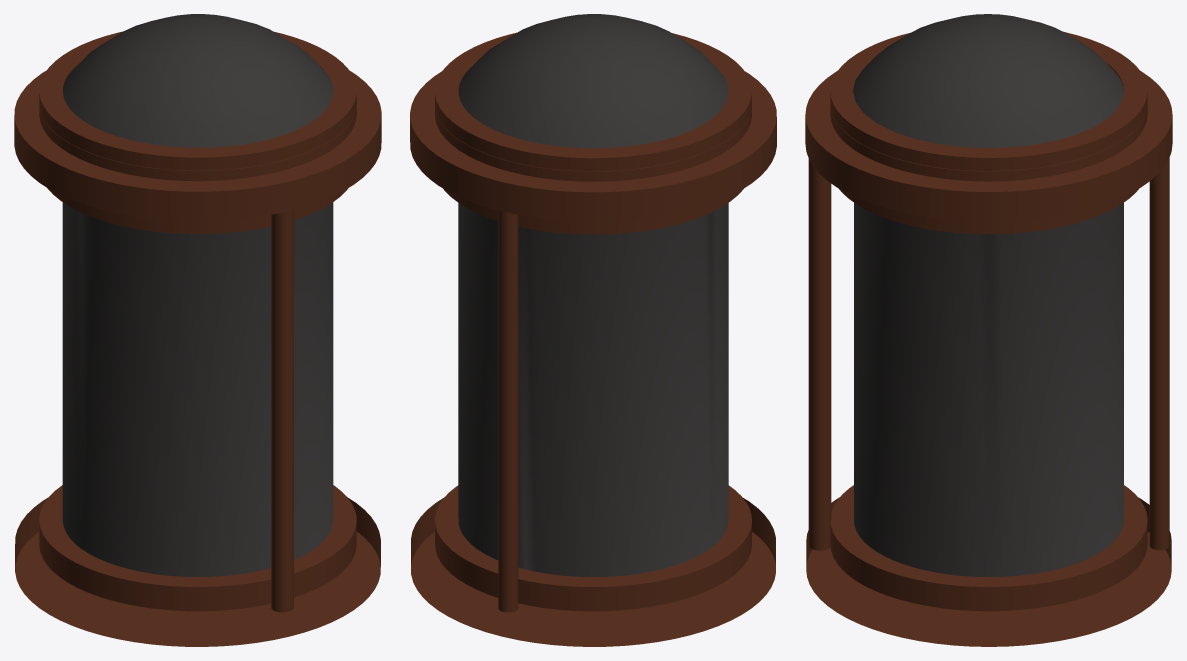
Rendered from TimeCapsuleLetter.glb.
3 renders of one model, left to right at view 1: azimuth 30°, elevation 25°; view 2: azimuth 150°, elevation 25°; view 3: azimuth 270°, elevation 25°, orthographic.
Visible parts, largest first — view 1: Cylinder.003, Sphere.001, Cylinder.006, Cylinder.001, Cylinder.002, Cylinder.005, Cylinder, Cylinder.008, Cylinder.004; view 2: Cylinder.003, Sphere.001, Cylinder.006, Cylinder.001, Cylinder.002, Cylinder.005, Cylinder.007, Cylinder.008, Cylinder.004; view 3: Cylinder.003, Sphere.001, Cylinder.006, Cylinder.001, Cylinder.002, Cylinder.005, Cylinder, Cylinder.007, Cylinder.008, Cylinder.004.
Boxes of the visible parts, x1=… form: Cylinder.003: x1=62, y1=202, x2=333, y2=576; Sphere.001: x1=63, y1=14, x2=333, y2=147; Cylinder.006: x1=14, y1=70, x2=381, y2=221; Cylinder.001: x1=15, y1=497, x2=380, y2=646; Cylinder.002: x1=39, y1=485, x2=356, y2=611; Cylinder.005: x1=39, y1=31, x2=356, y2=170; Cylinder: x1=271, y1=210, x2=293, y2=612; Cylinder.008: x1=39, y1=106, x2=356, y2=181; Cylinder.004: x1=47, y1=188, x2=348, y2=233; Cylinder.003: x1=458, y1=203, x2=728, y2=577; Sphere.001: x1=458, y1=14, x2=728, y2=148; Cylinder.006: x1=410, y1=71, x2=776, y2=221; Cylinder.001: x1=411, y1=498, x2=775, y2=646; Cylinder.002: x1=435, y1=485, x2=751, y2=611; Cylinder.005: x1=435, y1=32, x2=751, y2=171; Cylinder.007: x1=498, y1=210, x2=518, y2=612; Cylinder.008: x1=435, y1=106, x2=751, y2=181; Cylinder.004: x1=443, y1=189, x2=743, y2=234; Cylinder.003: x1=854, y1=203, x2=1123, y2=576; Sphere.001: x1=853, y1=14, x2=1123, y2=147; Cylinder.006: x1=805, y1=71, x2=1172, y2=221; Cylinder.001: x1=806, y1=497, x2=1171, y2=646; Cylinder.002: x1=830, y1=485, x2=1147, y2=611; Cylinder.005: x1=830, y1=31, x2=1147, y2=170; Cylinder: x1=808, y1=159, x2=831, y2=550; Cylinder.007: x1=1149, y1=158, x2=1169, y2=549; Cylinder.008: x1=830, y1=105, x2=1147, y2=181; Cylinder.004: x1=839, y1=189, x2=1138, y2=234.
Size of the model in its own units: 2 by 3.24 by 2.
